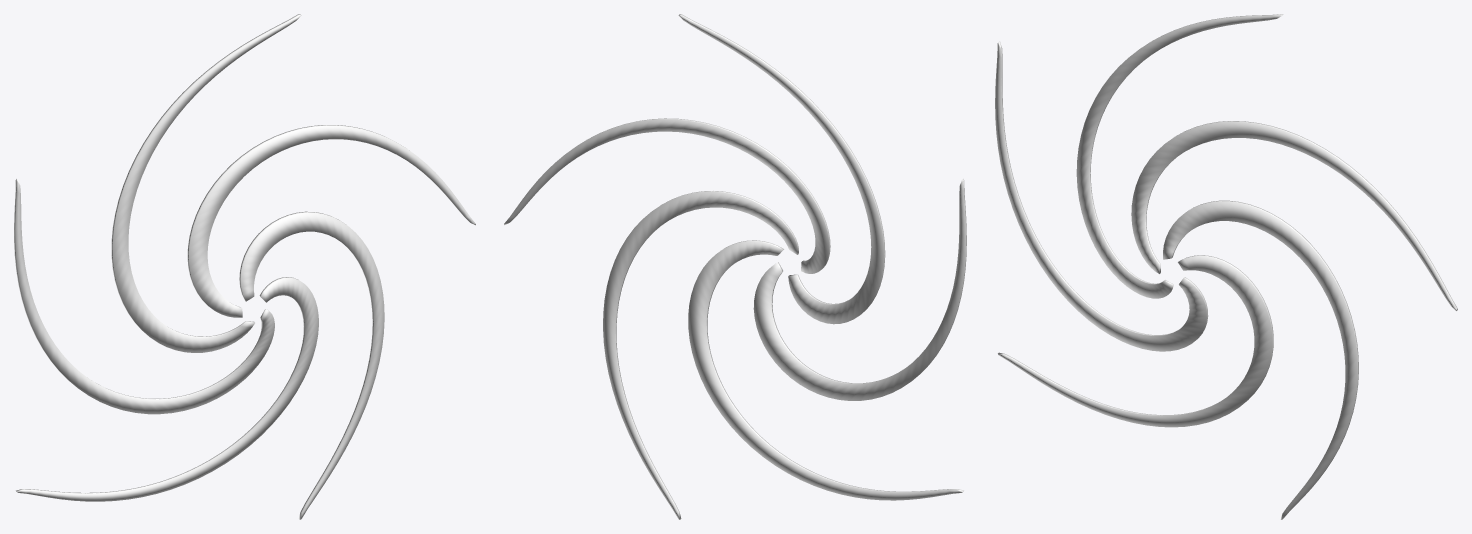
Rendered from GateVortexA.fbx.
3 views of the same model, side by side, from view 1: azimuth 30°, elevation 25°; view 2: azimuth 150°, elevation 25°; view 3: azimuth 330°, elevation 25° (orthographic).
Parts seen in each view (by area): view 1: GateVortexA; view 2: GateVortexA; view 3: GateVortexA.
Boxes of the visible parts, bbox=[...] form: GateVortexA: bbox=[14, 14, 475, 519]; GateVortexA: bbox=[504, 14, 966, 519]; GateVortexA: bbox=[995, 14, 1457, 519].
Bounding box in the file's own units: 12.46 × 13.04 × 1.56.
1 material, 1 textured.
